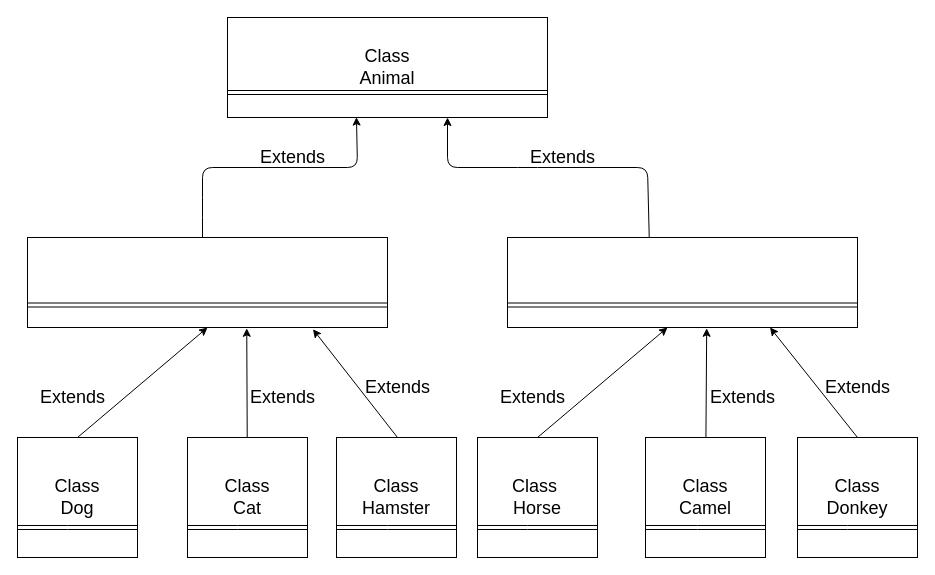
The diagram is 935 pixels wide and 575 high, and some of its shapes have lost their labels. The centre of each missing label's shape, as x and y in pixels:
"Class packedAnimals" belongs at point (682, 282).
"Class Pets" belongs at point (207, 282).
